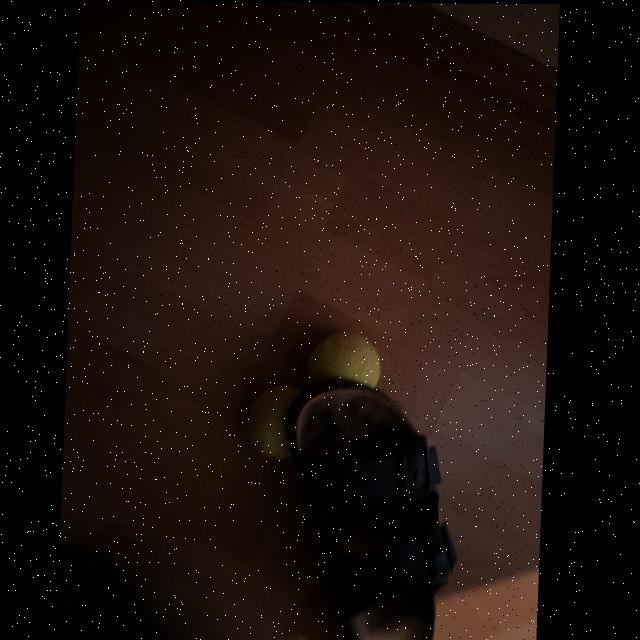Tennisball: (307, 332, 380, 389), (247, 384, 301, 460)
